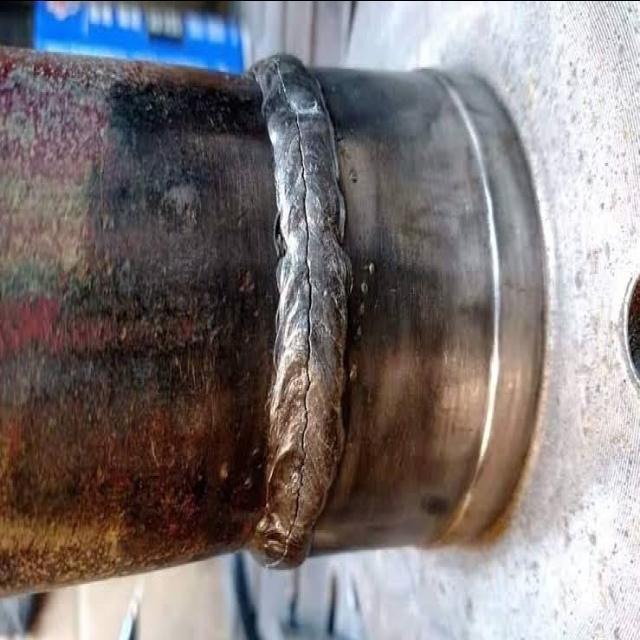Crack: (268, 49, 318, 572)
